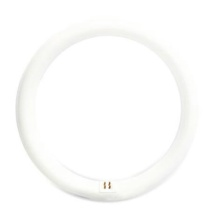light_bulb: (11, 19, 202, 207)
